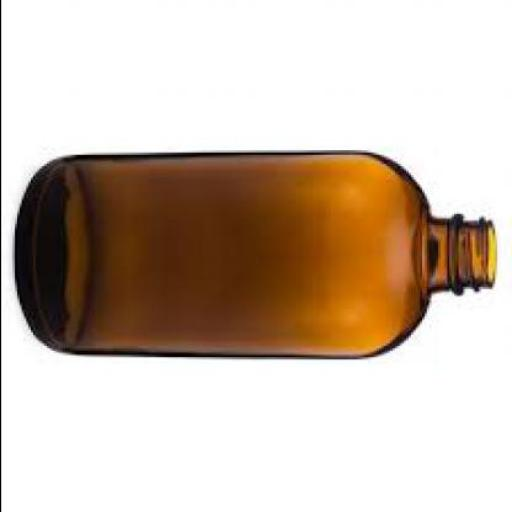glass: (16, 148, 496, 355)
